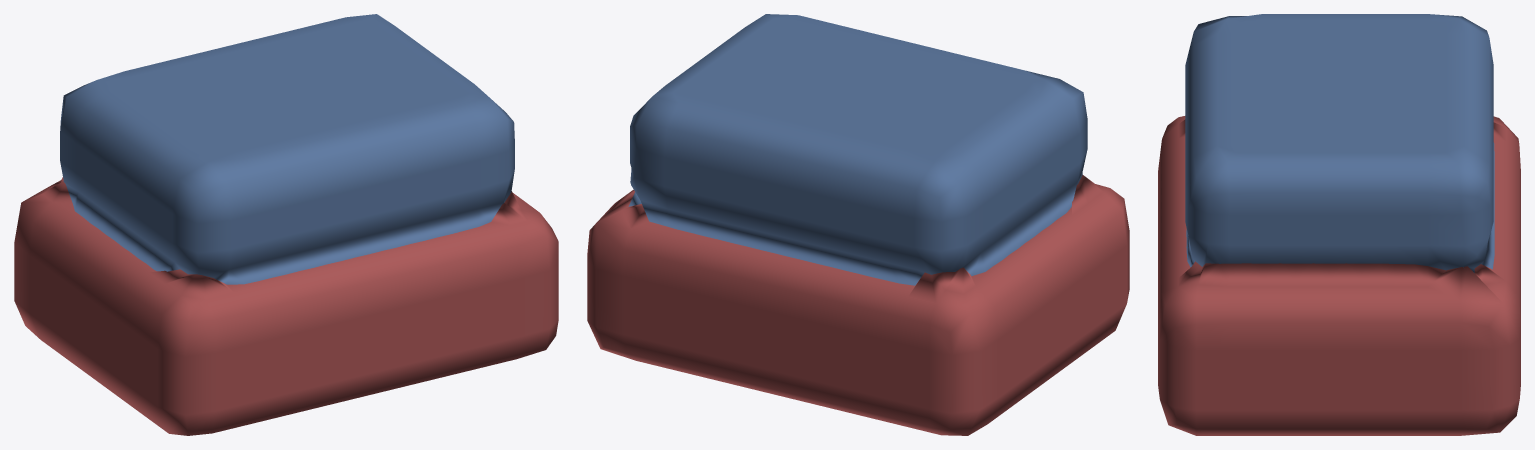
Rendered from orn_c04.glb.
The picture shows the model from 3 angles, left to right: view 1: azimuth 30°, elevation 25°; view 2: azimuth 150°, elevation 25°; view 3: azimuth 270°, elevation 25°; orthographic projection. The views are drawn at different scales.
Parts seen in each view (by area): view 1: orn_c04; view 2: orn_c04; view 3: orn_c04.
Boxes of the visible parts, left/top/right/bottom form: orn_c04: left=14, top=14, right=558, bottom=435; orn_c04: left=587, top=14, right=1129, bottom=435; orn_c04: left=1158, top=14, right=1520, bottom=435.
Size of the model in its own units: 5.2 by 3.2 by 4.
